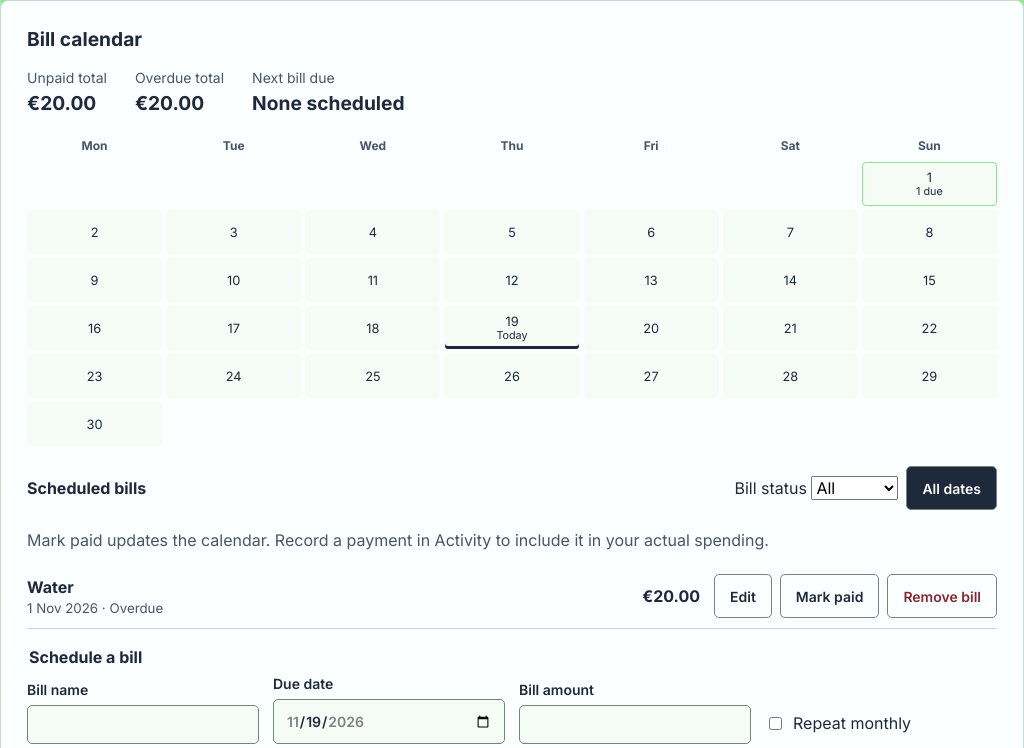
Test: edits the selected occurrence and filters paid bills
The image size is (1024, 748).
Click the button with aria-label "Edit Water": [743, 596] box [714,574,772,618]
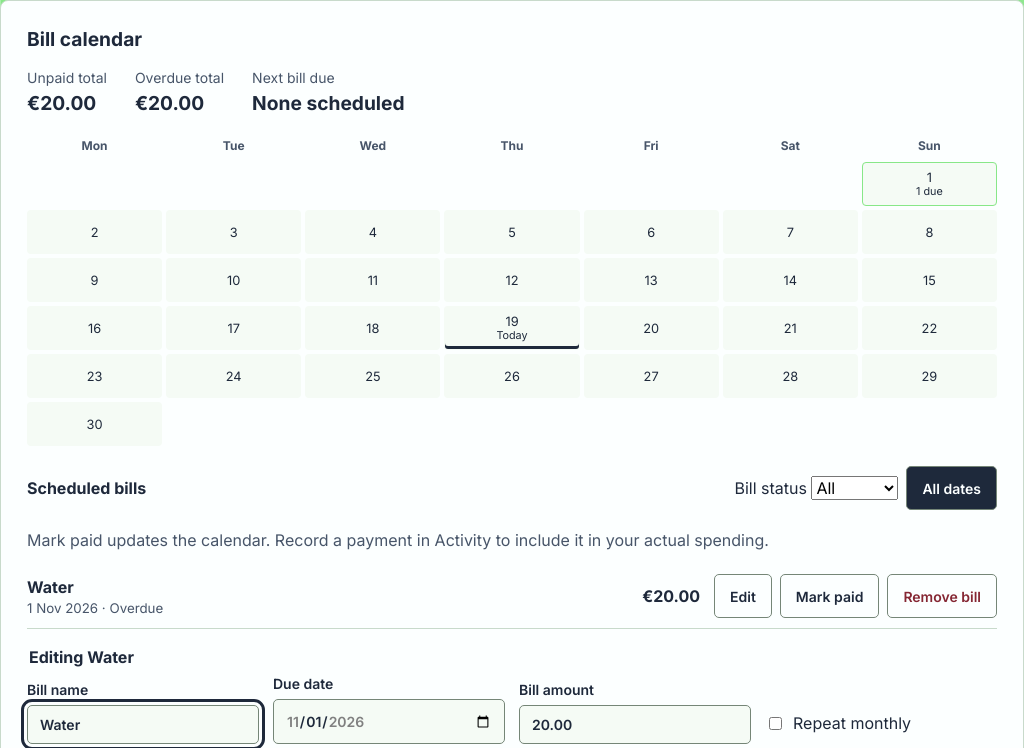
Replace the text in the field labelled "Bill amount" with "30": [635, 724] box [519,705,751,744]
(page scrolled)
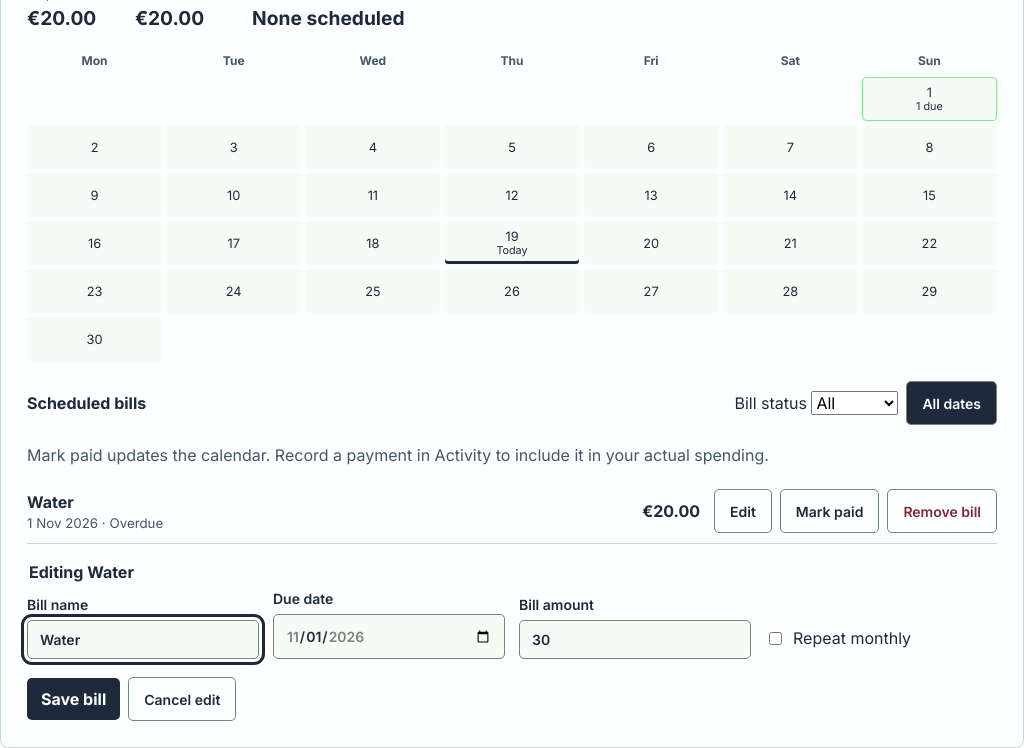
Click the button "Save bill": [74, 699] box [27,678,120,720]
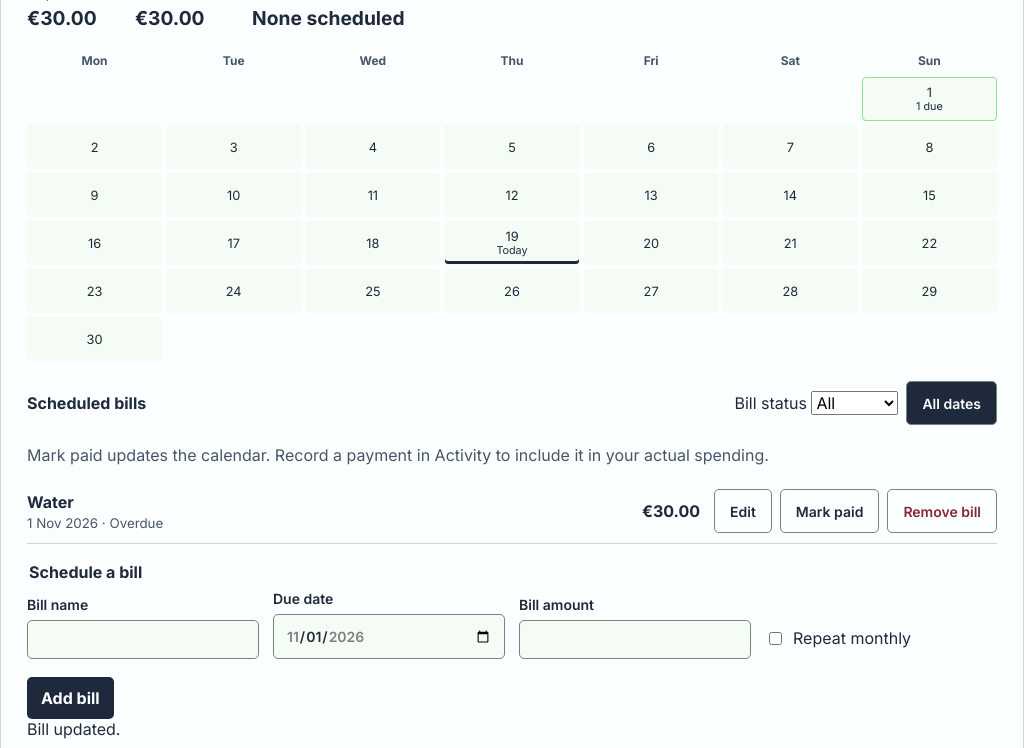
Select "Paid" in the dropdown labelled "Bill status": [855, 403] box [811,391,898,415]
(page scrolled)
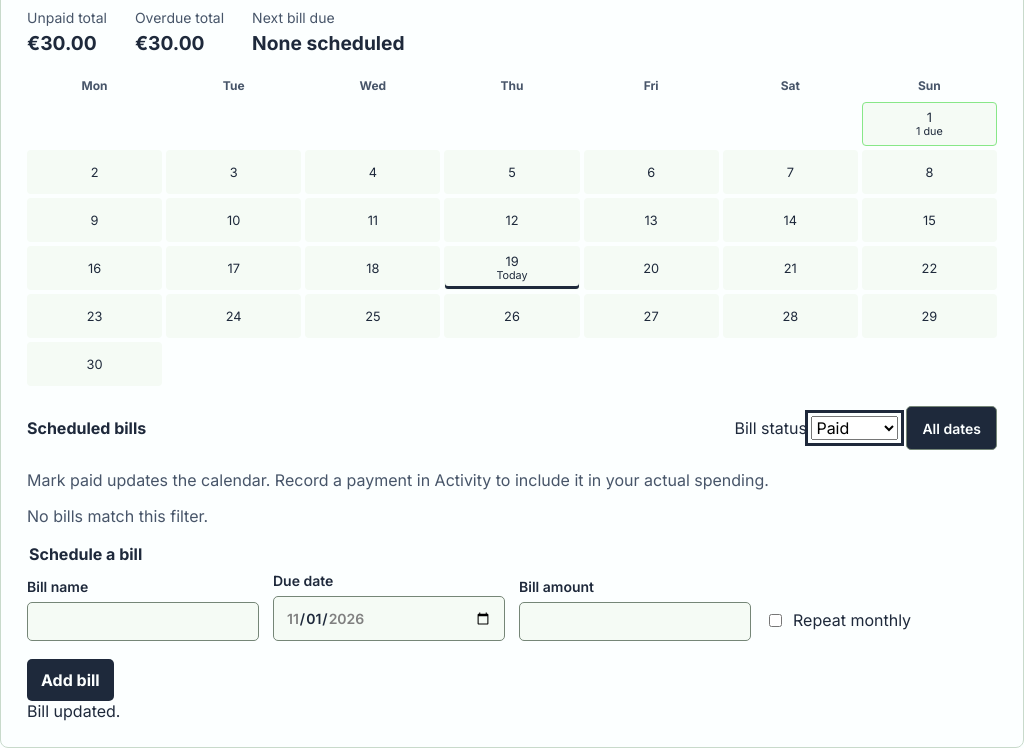
Result: the text "No bills match this filter." is shown at [27,506,208,526]
